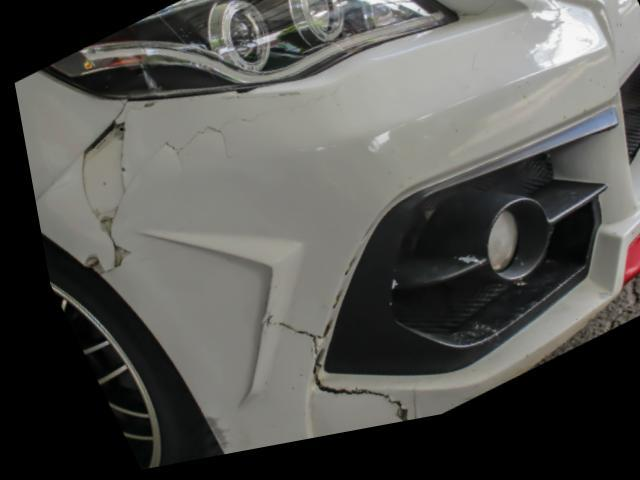crack: (73, 98, 336, 275), (250, 325, 391, 434), (228, 102, 296, 108)
